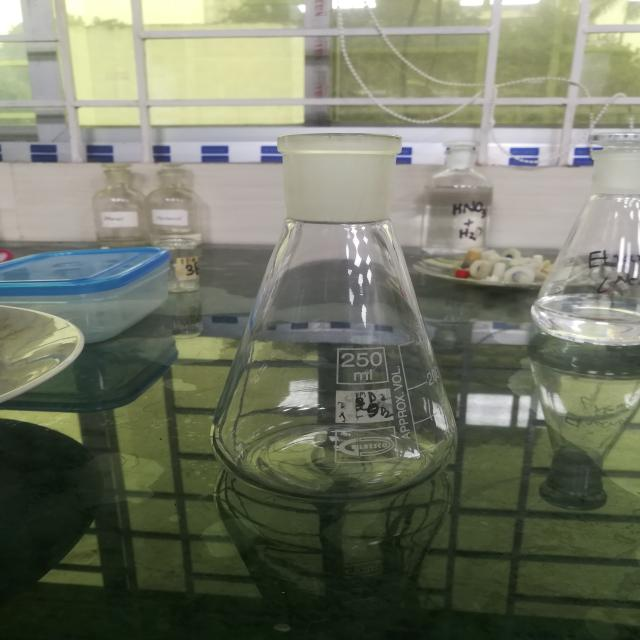Conical_Flask: (198, 88, 482, 526), (514, 110, 640, 355)
